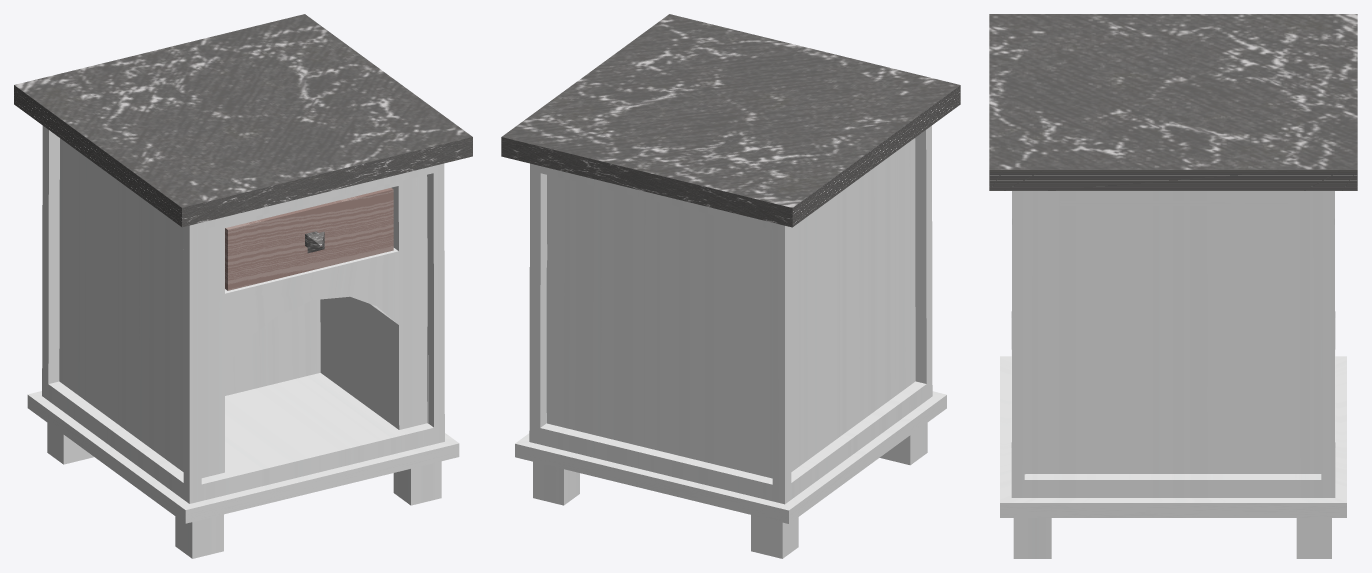
Rendered from drawer_open.fbx.
3 views of the same model, side by side, from view 1: azimuth 30°, elevation 25°; view 2: azimuth 150°, elevation 25°; view 3: azimuth 270°, elevation 25° (orthographic). The views are drawn at different scales.
Parts seen in each view (by area): view 1: polySurface7, polySurface8, polySurface9; view 2: polySurface7; view 3: polySurface7.
Part boxes in pixels (left/top/right/bottom): polySurface7: left=14, top=14, right=472, bottom=558; polySurface8: left=225, top=188, right=393, bottom=290; polySurface9: left=225, top=188, right=393, bottom=288; polySurface7: left=501, top=14, right=960, bottom=558; polySurface7: left=989, top=14, right=1357, bottom=558.
Size of the model in its own units: 0.7997 by 0.9579 by 0.7997.
3 materials, 3 textured.
